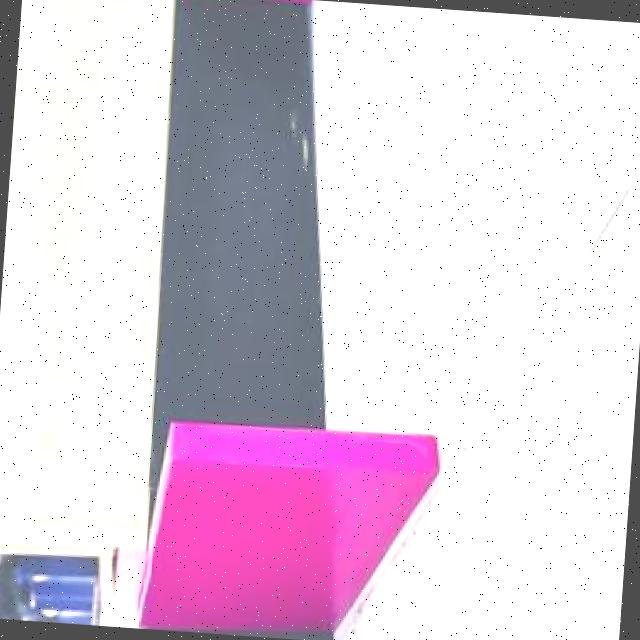xparking: (152, 421, 431, 640)
